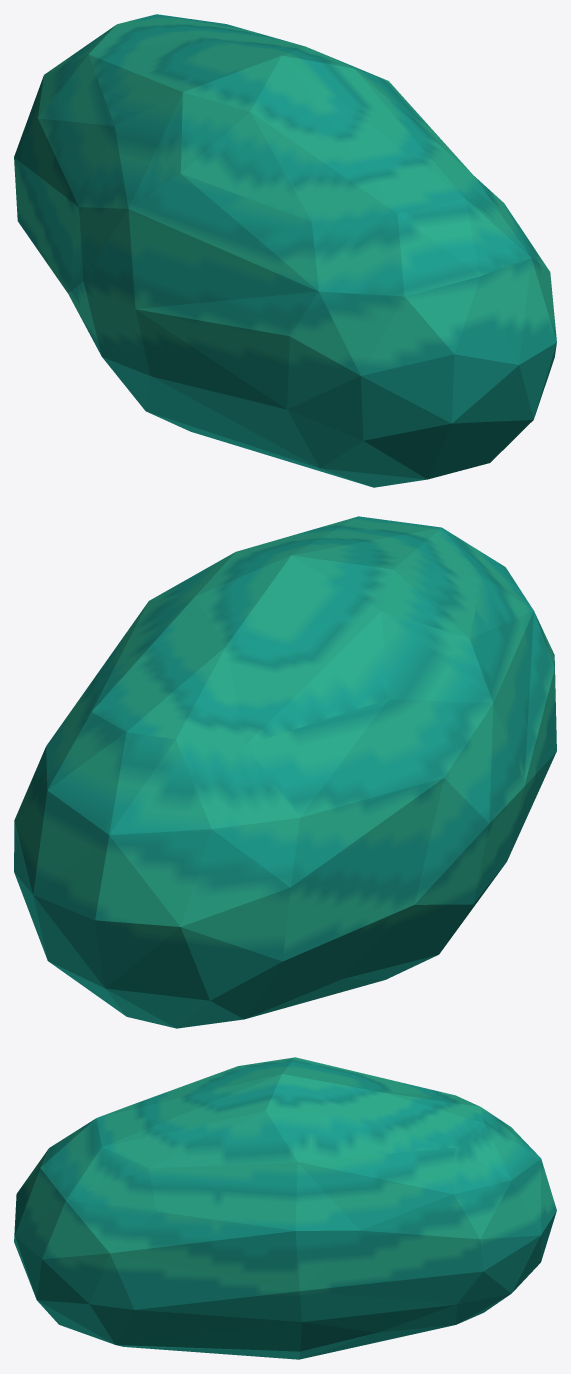
File: bush2.fbx
3 renders of one model, top to bottom at view 1: azimuth 30°, elevation 25°; view 2: azimuth 150°, elevation 25°; view 3: azimuth 270°, elevation 25°, orthographic. The views are drawn at different scales.
Visible parts, largest first — view 1: Mball.003; view 2: Mball.003; view 3: Mball.003.
Part boxes in pixels (bbox=[...]): Mball.003: bbox=[14, 14, 556, 487]; Mball.003: bbox=[14, 516, 556, 1028]; Mball.003: bbox=[14, 1057, 556, 1359].
Bounding box in the file's own units: 319 × 326 × 578.
